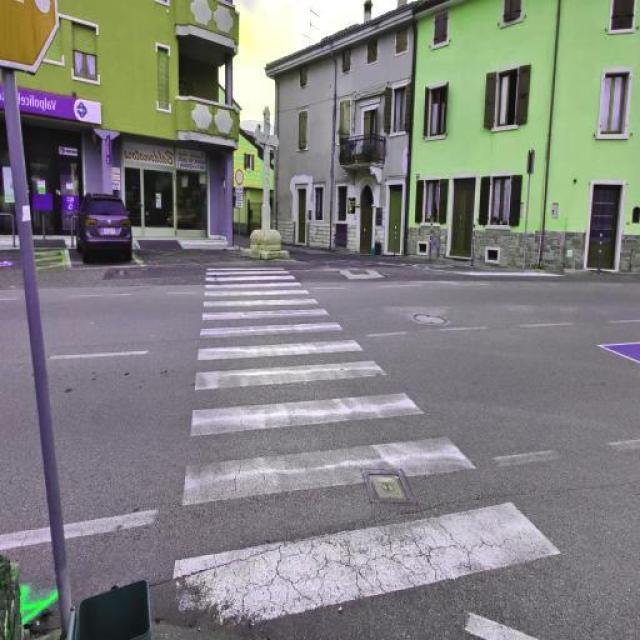crosswalk: (171, 264, 585, 630)
